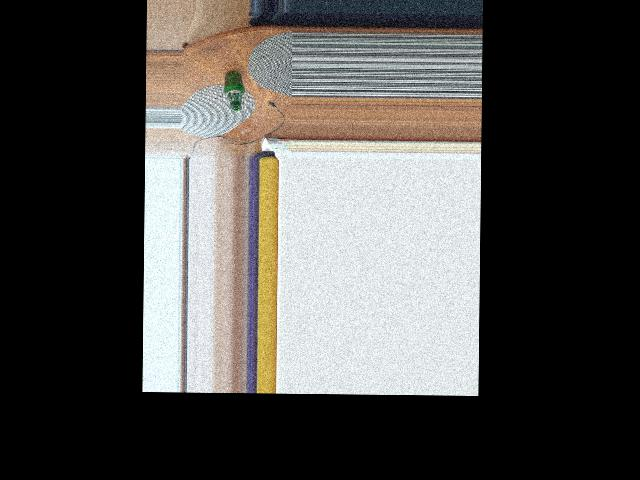beer: (223, 70, 244, 111)
